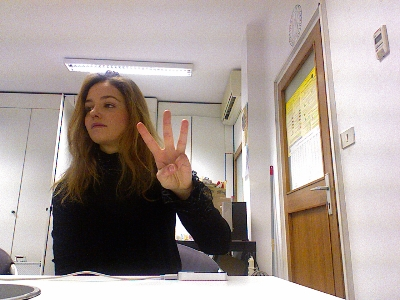三分: (135, 108, 193, 191)
